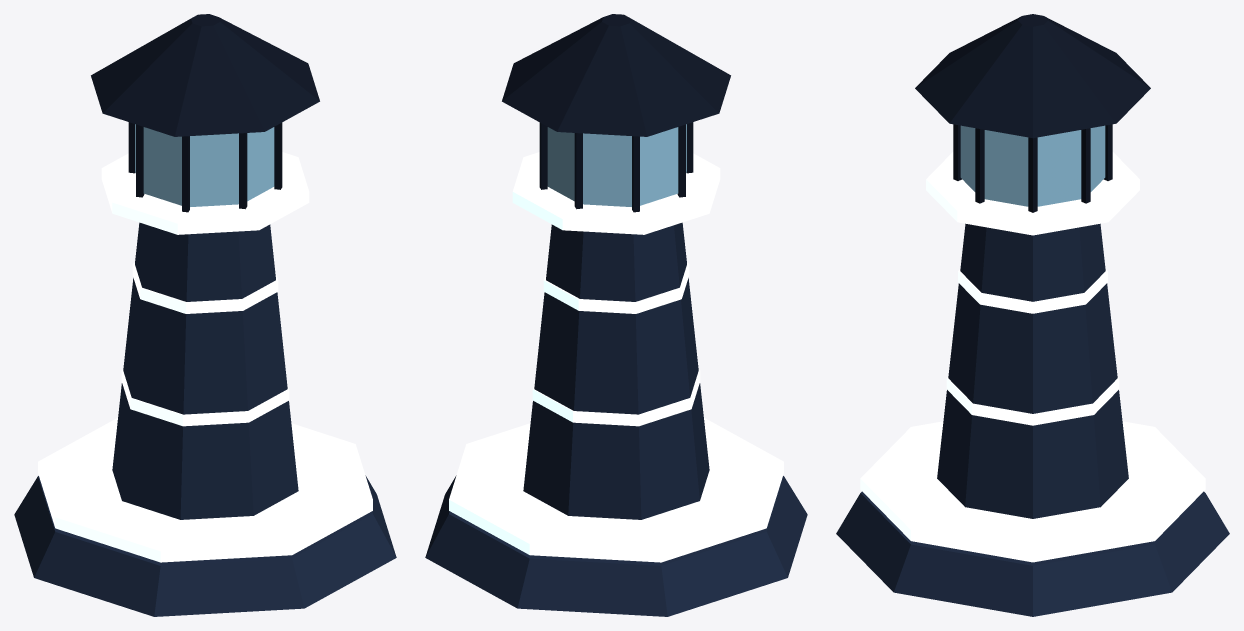
Rendered from Beacon.fbx.
3 views of the same model, side by side, from view 1: azimuth 30°, elevation 25°; view 2: azimuth 150°, elevation 25°; view 3: azimuth 270°, elevation 25° (orthographic).
Parts seen in each view (by area): view 1: KIT_Beacon_Body; view 2: KIT_Beacon_Body; view 3: KIT_Beacon_Body.
Part boxes in pixels (x1,y1,x2,y2): KIT_Beacon_Body: [14, 14, 396, 616]; KIT_Beacon_Body: [425, 14, 807, 616]; KIT_Beacon_Body: [836, 14, 1229, 616].
Bounding box in the file's own units: 2.1 × 3.02 × 2.1.
